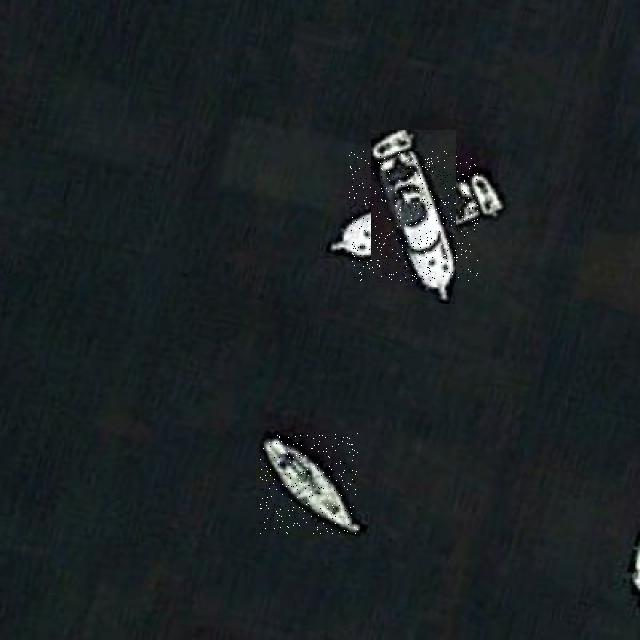boat: (349, 152, 478, 282), (260, 433, 358, 534)
